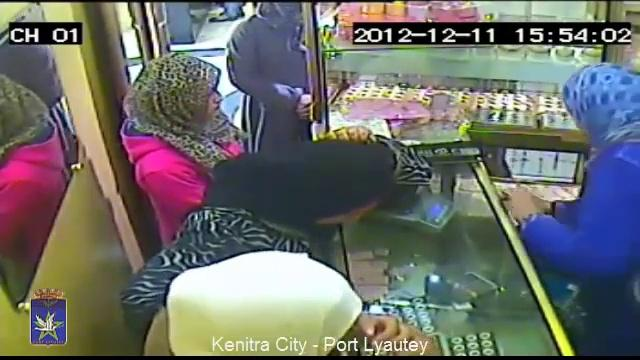Customer-Bagpack: (374, 124, 435, 194)
Product: (513, 173, 561, 213)
Product-Picked: (503, 41, 640, 360)
Regular: (118, 229, 334, 360), (120, 36, 233, 185), (257, 123, 388, 245), (215, 1, 326, 131)
